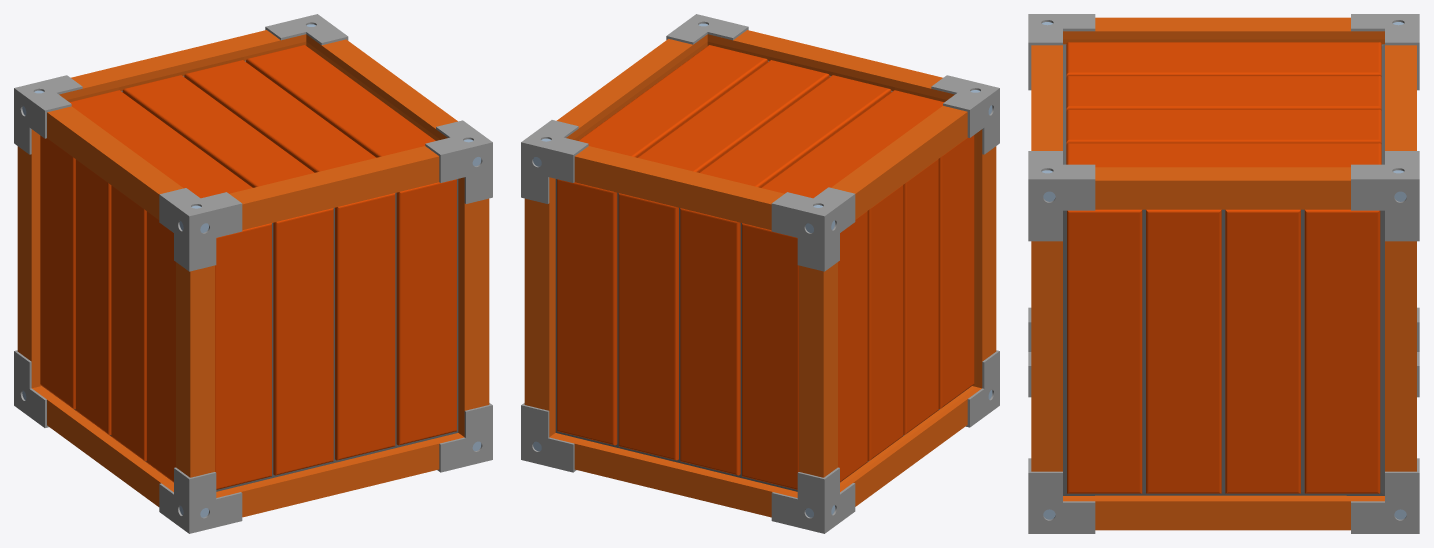
File: 4x0 metalni cosak kutija final.fbx
The picture shows the model from 3 angles, left to right: view 1: azimuth 30°, elevation 25°; view 2: azimuth 150°, elevation 25°; view 3: azimuth 270°, elevation 25°; orthographic projection. The views are drawn at different scales.
Visible parts, largest first — view 1: Cube.211; view 2: Cube.211; view 3: Cube.211.
Part boxes in pixels (x1=…): Cube.211: x1=14, y1=14, x2=492, y2=533; Cube.211: x1=521, y1=14, x2=999, y2=533; Cube.211: x1=1028, y1=14, x2=1419, y2=533.
Size of the model in its own units: 203 by 203 by 203.
